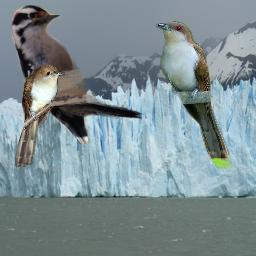Cuckoo: (156, 21, 232, 169), (15, 64, 65, 167)
Woodpecker: (11, 5, 142, 144)
